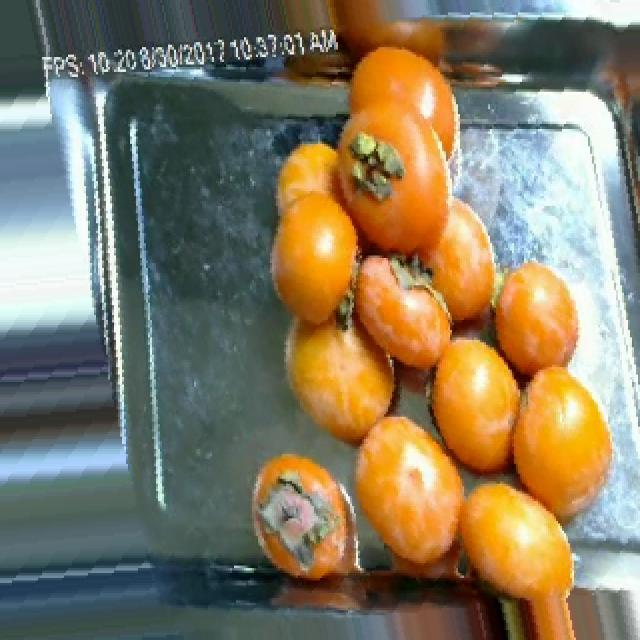Fruit: (256, 124, 376, 318), (482, 243, 598, 402), (378, 555, 528, 640), (564, 565, 640, 640)
